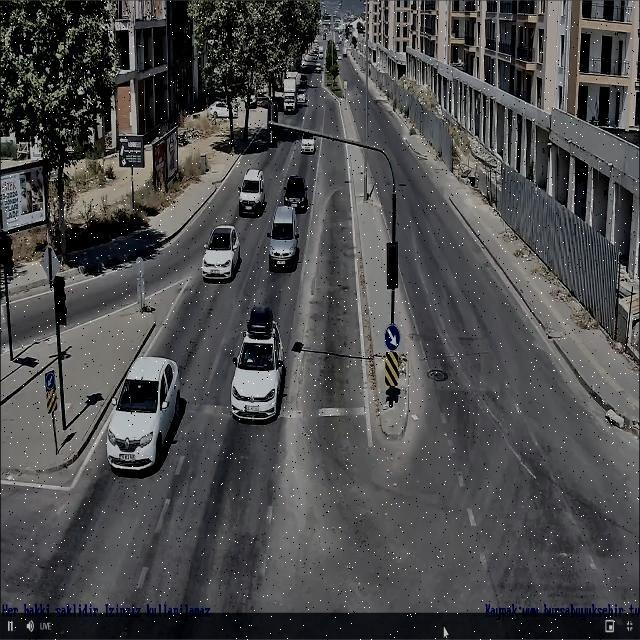Car: (102, 350, 189, 486), (229, 310, 286, 421), (202, 224, 242, 280), (268, 207, 300, 269), (283, 174, 308, 210), (208, 101, 239, 120), (300, 134, 317, 154), (296, 88, 307, 104)
Truck: (278, 82, 299, 114)
Van: (238, 168, 268, 216)
